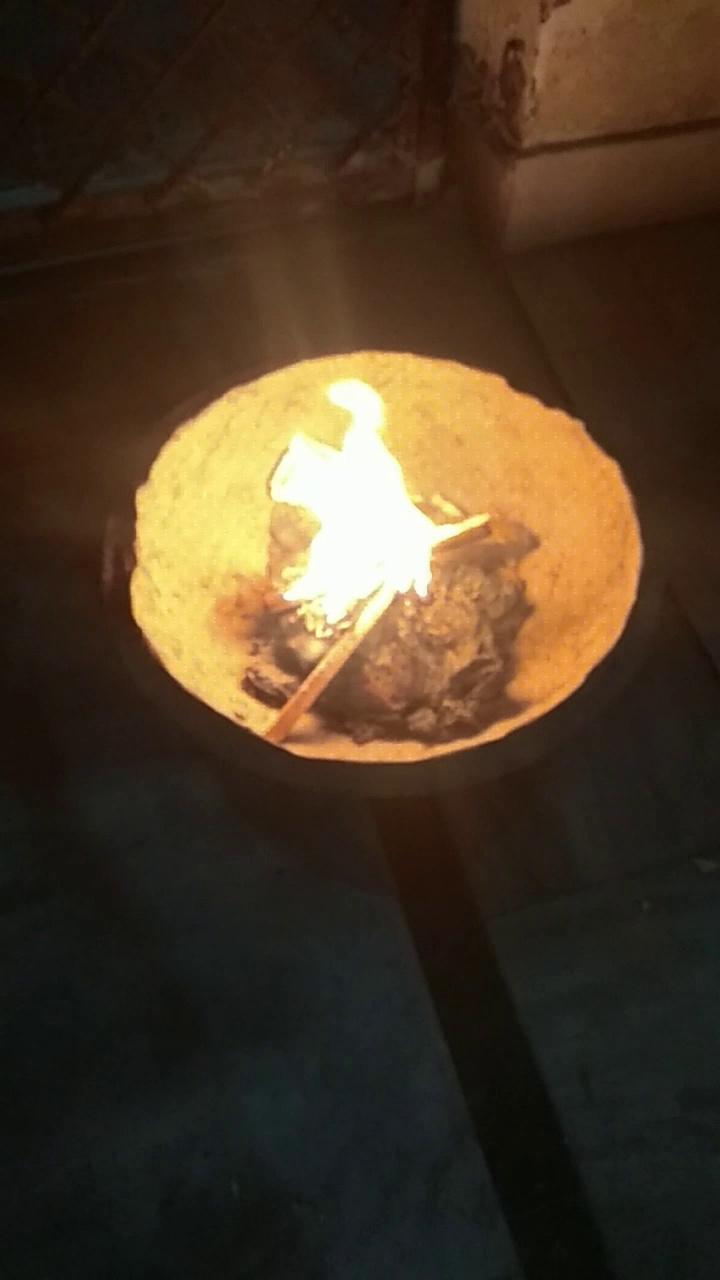fire: (248, 333, 444, 641)
